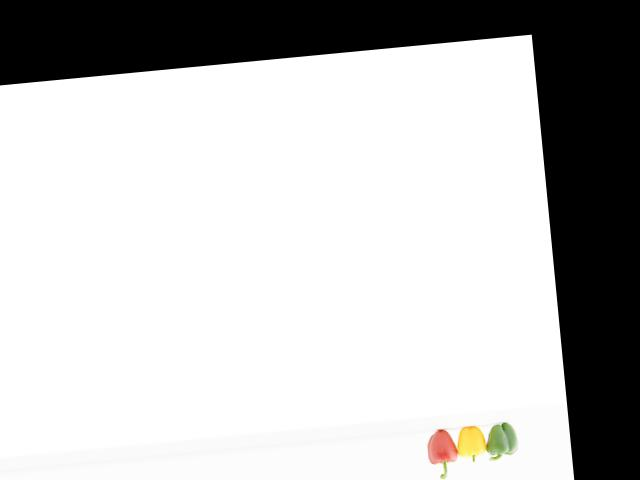bell_pepper: (416, 422, 463, 480)
